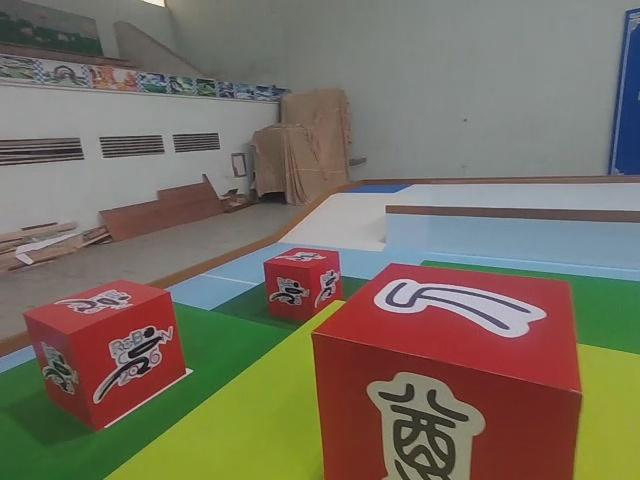R1: (21, 277, 189, 434), (262, 244, 345, 323)
R2 Fake: (311, 260, 583, 480)
